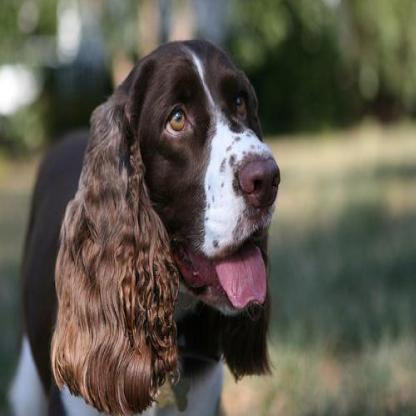English_springer: (5, 34, 283, 414)
